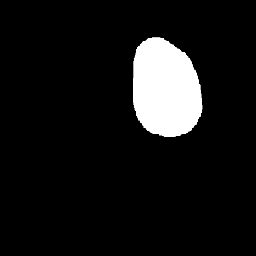mass: (130, 43, 202, 140)
